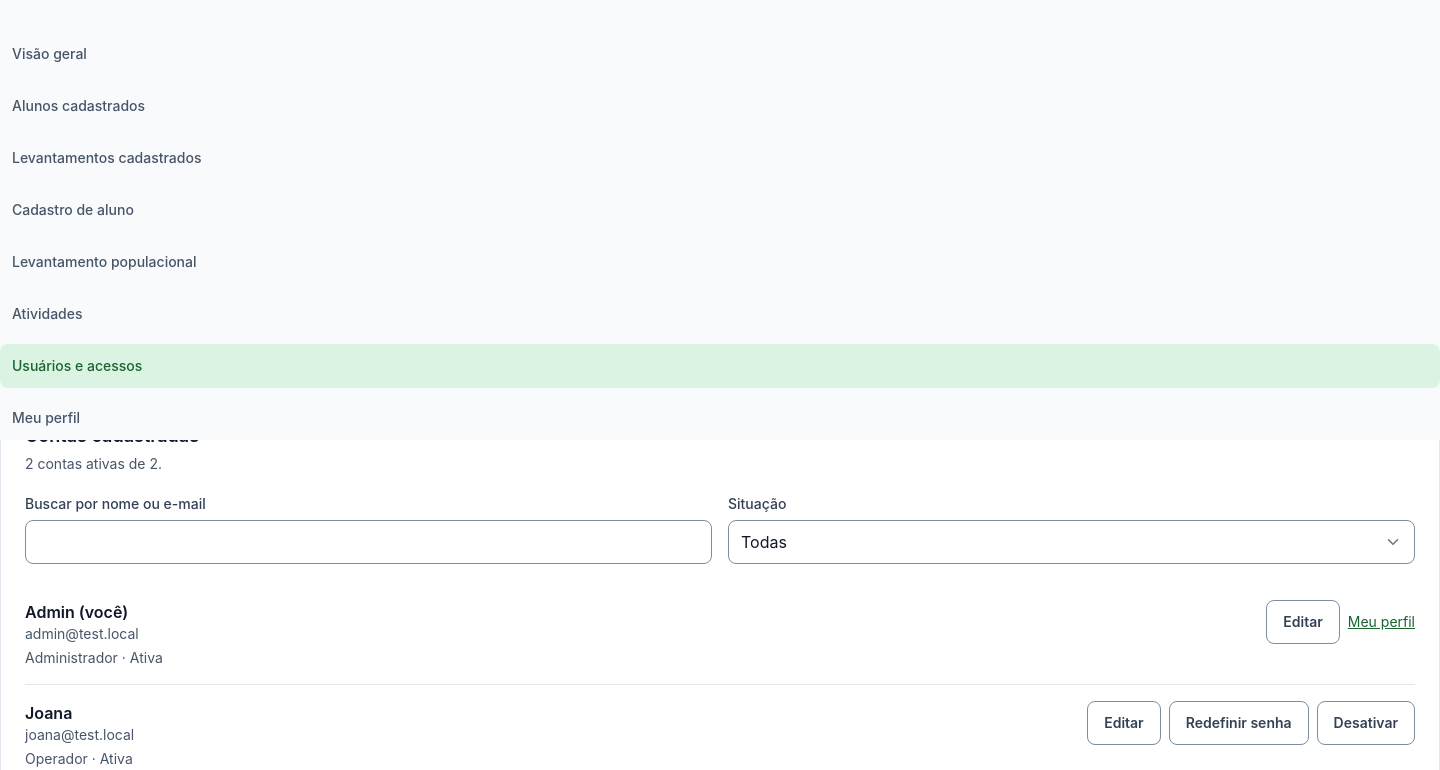
Test: redefine senha sem persistir credenciais na interface ou armazenamento
(page scrolled)
Click the button with aria-label "Redefinir senha de Joana" at coordinates (1239, 723), box [1169,701,1309,745]
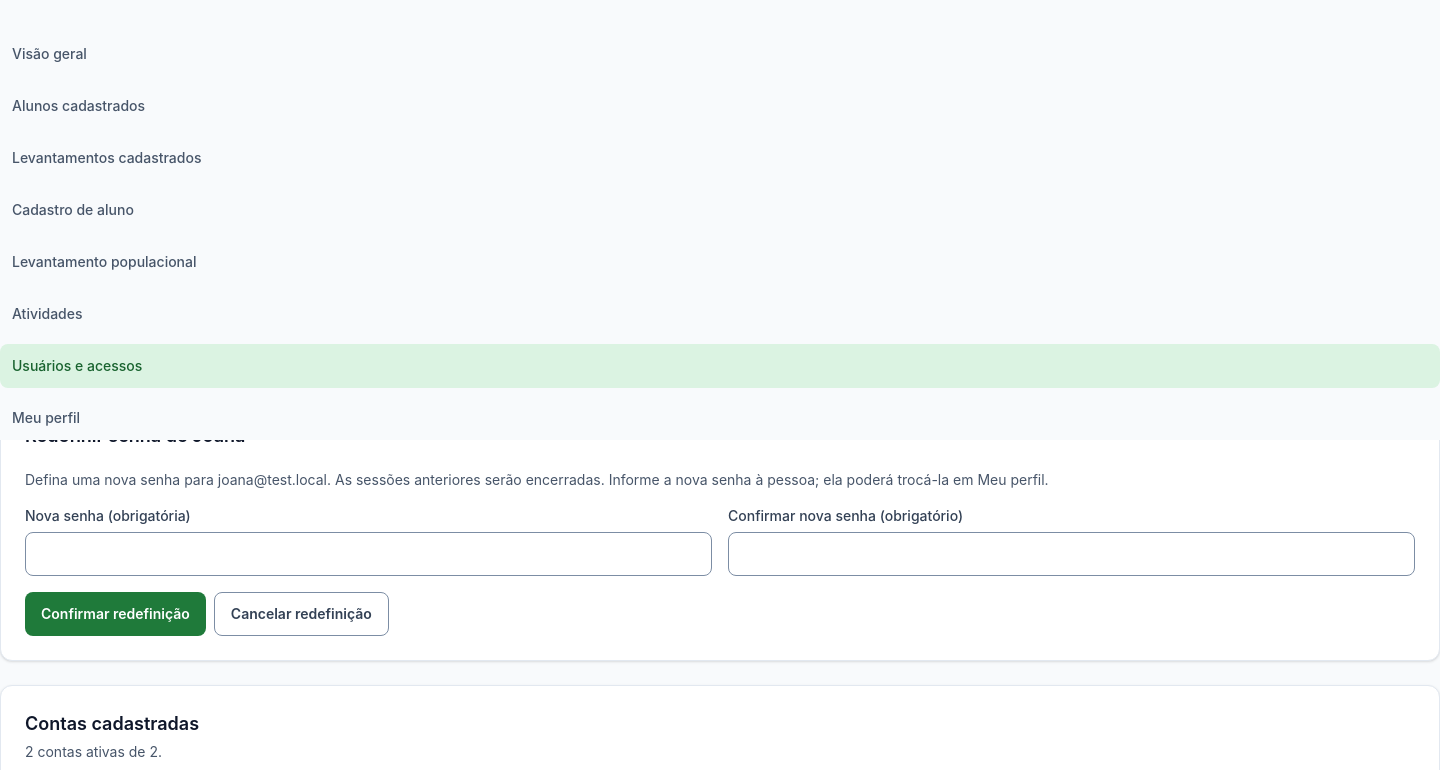
Type "nova-senha-123" into the password field labelled "Nova senha (obrigatória)" at coordinates (368, 554), box [25,532,712,576]
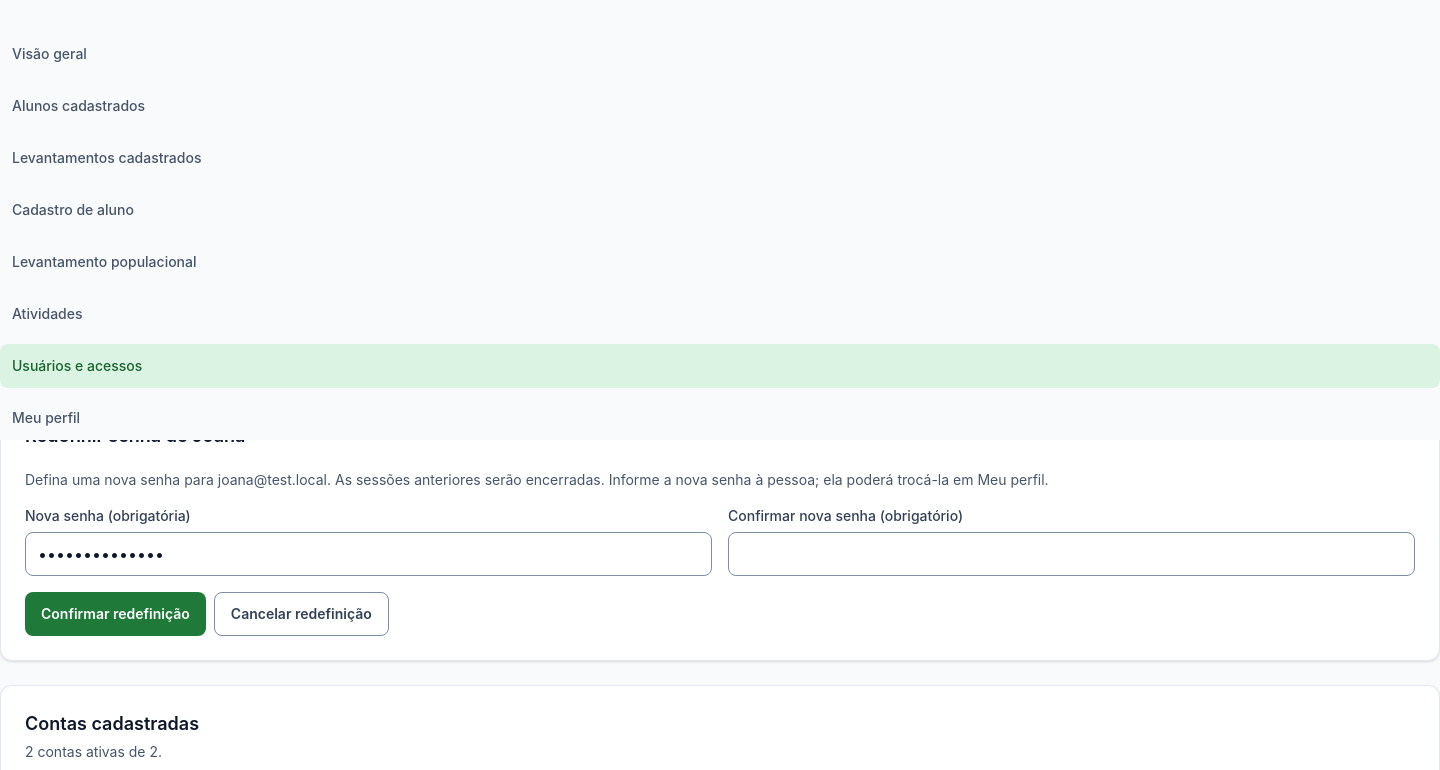
Type "nova-senha-123" into the password field labelled "Confirmar nova senha (obrigatório)" at coordinates (1072, 554), box [728,532,1415,576]
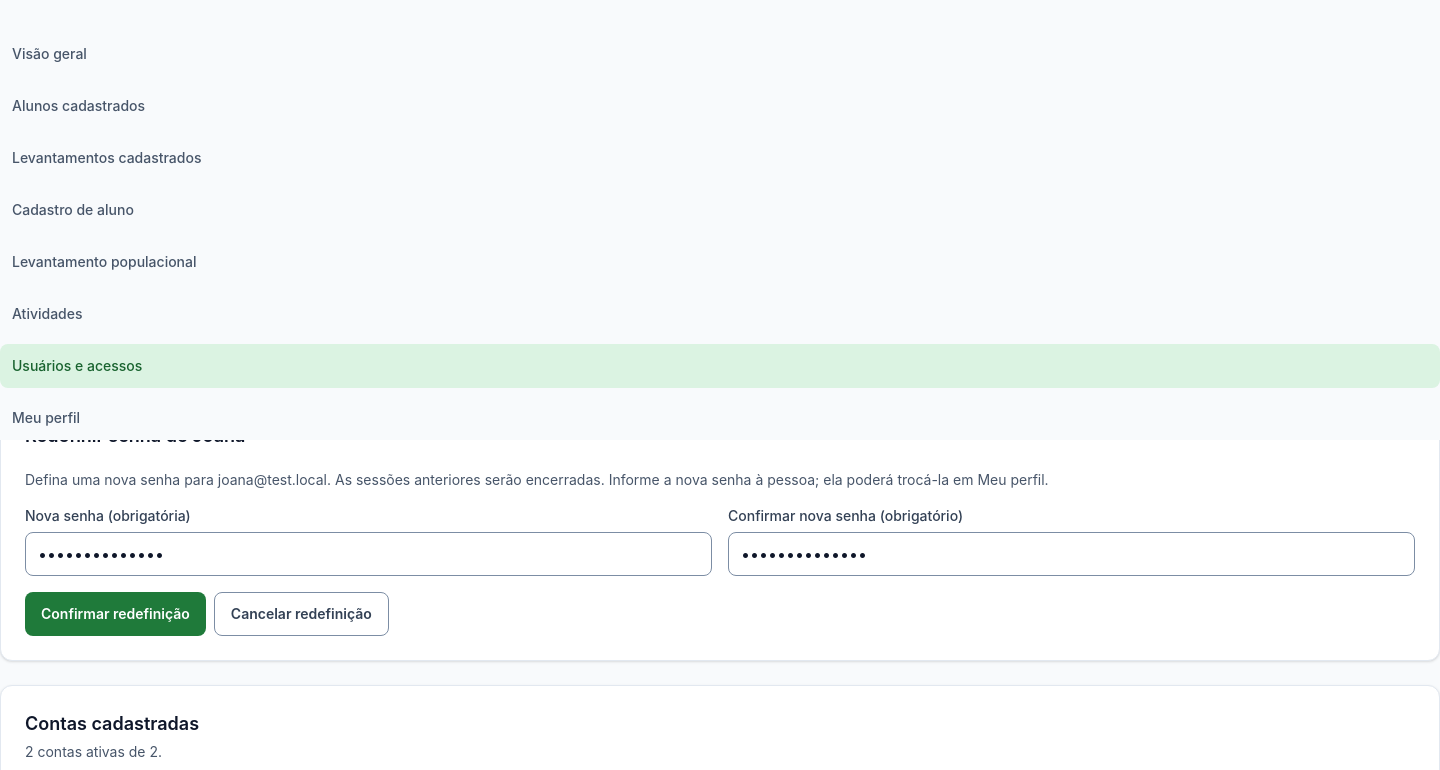
Click the button "Confirmar redefinição" at coordinates (115, 614), box [25,592,206,636]
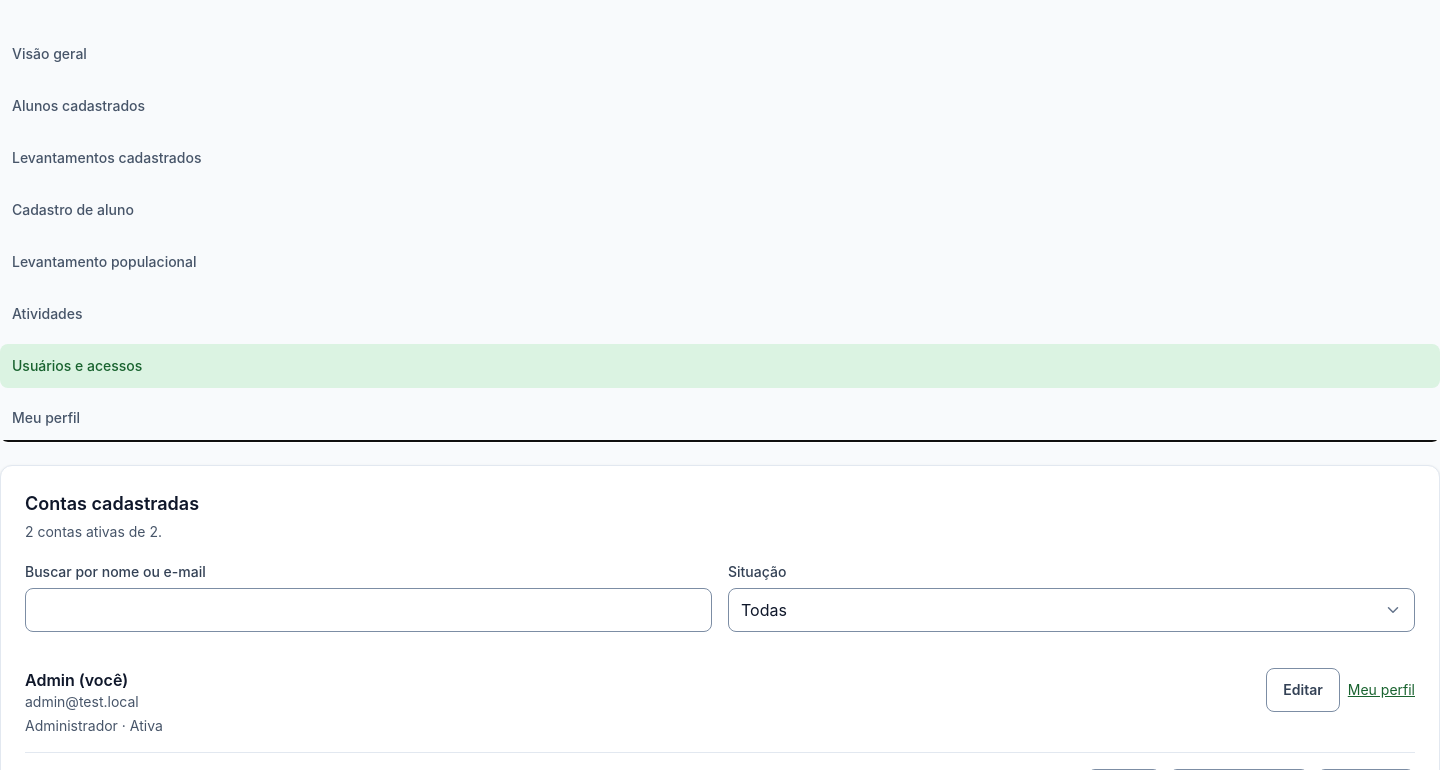
Expected: the text "Senha redefinida. As sessões anteriores foram encerradas." is shown, [16,410,412,427]
Expected: the label labelled "Nova senha (obrigatória)" is gone
